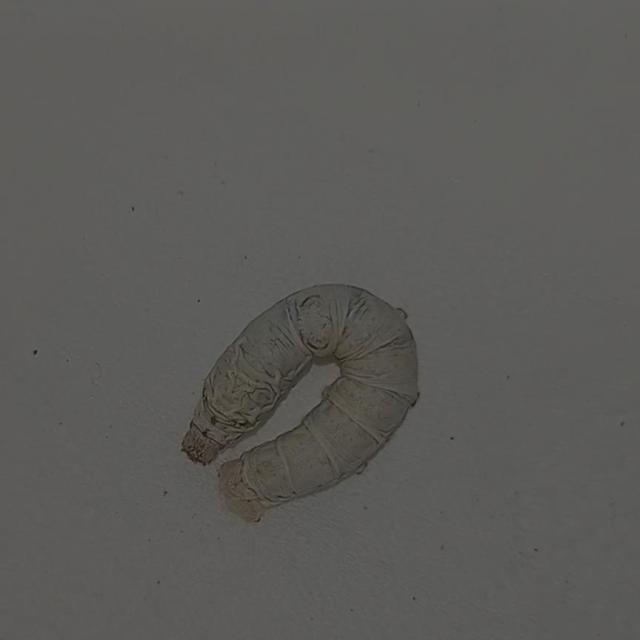Healthy: (168, 274, 433, 528)
